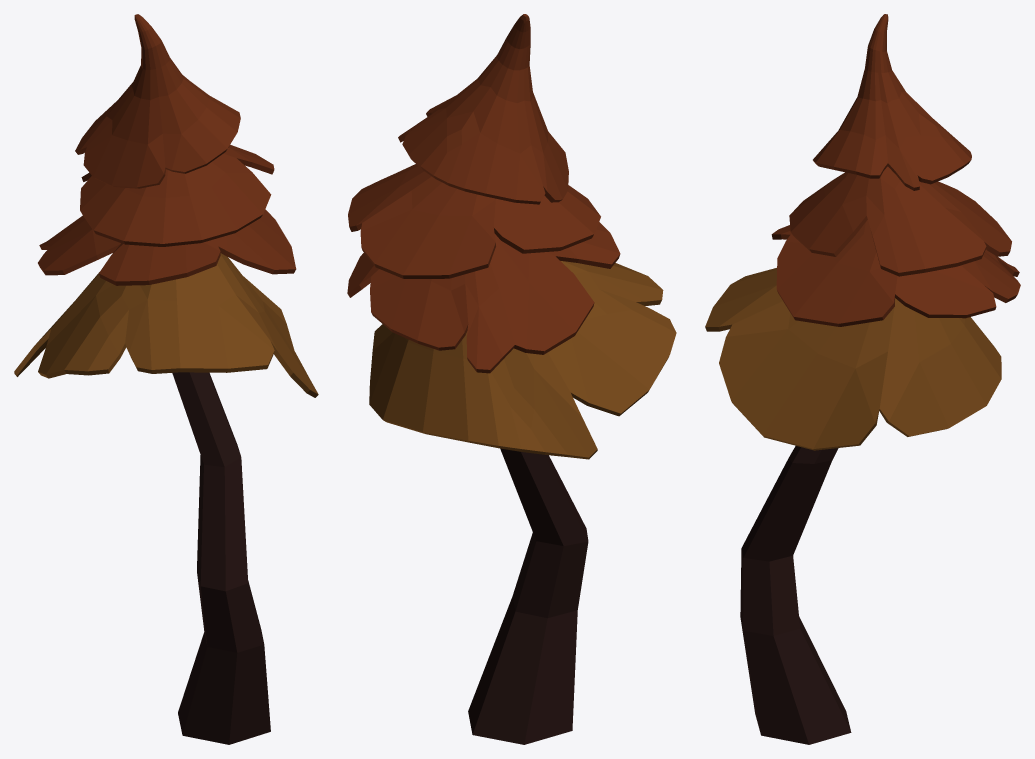
The model's file is PineTree_Autumn_4_Cylinder.obj.
3 renders of one model, left to right at view 1: azimuth 30°, elevation 25°; view 2: azimuth 150°, elevation 25°; view 3: azimuth 270°, elevation 25°, orthographic. The views are drawn at different scales.
Visible parts, largest first — view 1: PineTree_Autumn_4_Cylinder.062; view 2: PineTree_Autumn_4_Cylinder.062; view 3: PineTree_Autumn_4_Cylinder.062.
Part boxes in pixels (left/top/right/bottom): PineTree_Autumn_4_Cylinder.062: left=14, top=14, right=318, bottom=744; PineTree_Autumn_4_Cylinder.062: left=347, top=14, right=676, bottom=744; PineTree_Autumn_4_Cylinder.062: left=705, top=14, right=1020, bottom=744.
Size of the model in its own units: 1.25 by 3.34 by 1.39.
